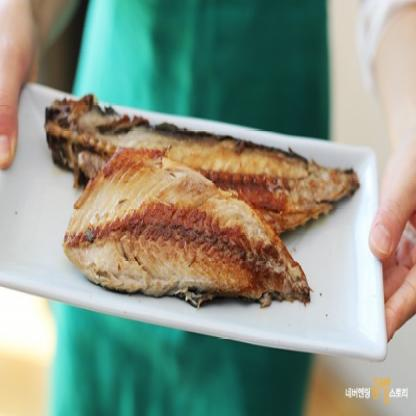Peixe: (43, 83, 372, 337)
